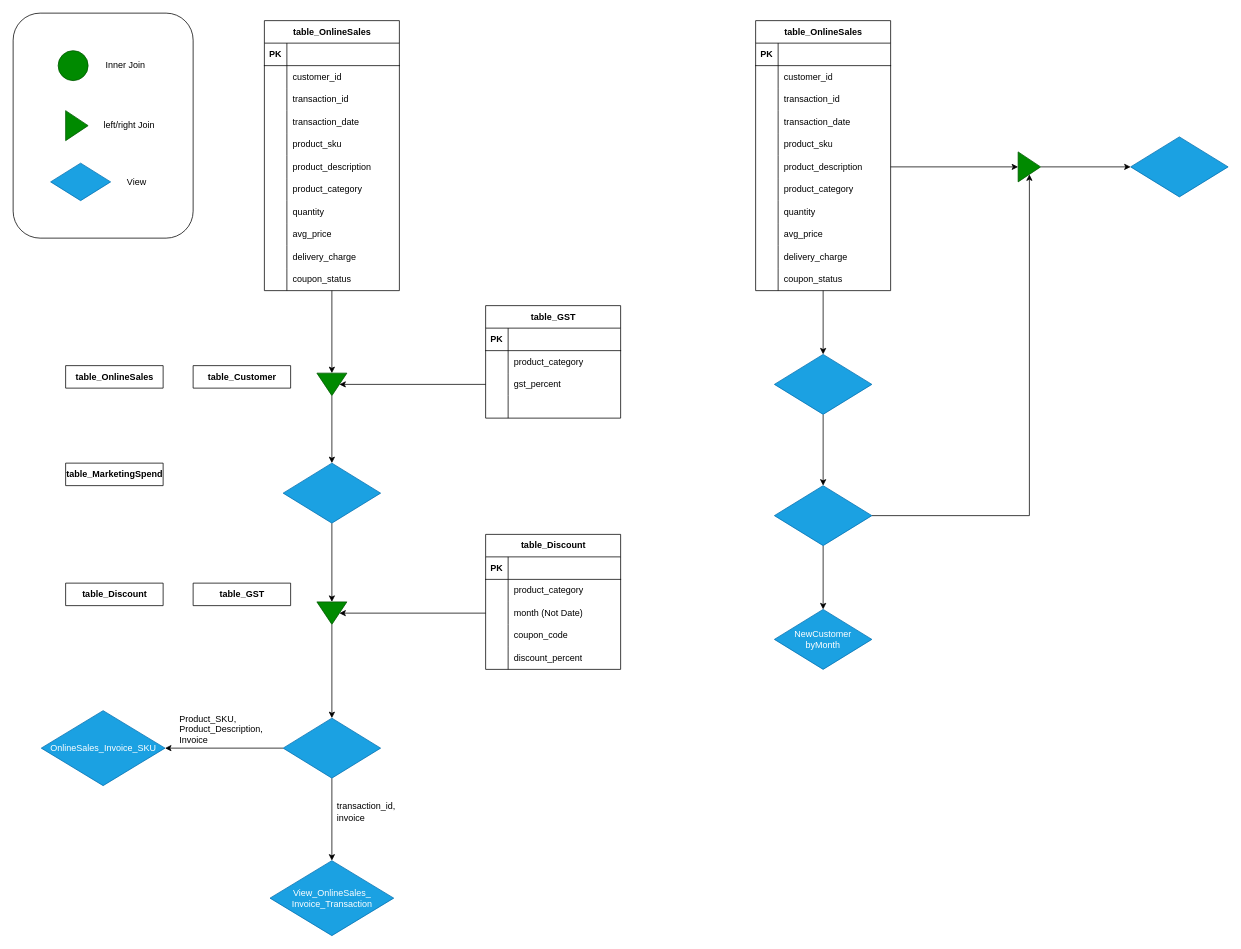
The diagram is 1241 pixels wide and 949 high, and some of its shapes have lost their labels. Each missing label, with the centre of its shape:
"Customer_FirstTime" goes at (x=823, y=515).
"CustomerMonth" goes at (x=823, y=384).
"CustomerRetention" goes at (x=1179, y=166).
"Online_GST" goes at (x=331, y=492).
"Online_GST_Coupon" goes at (x=331, y=747).
